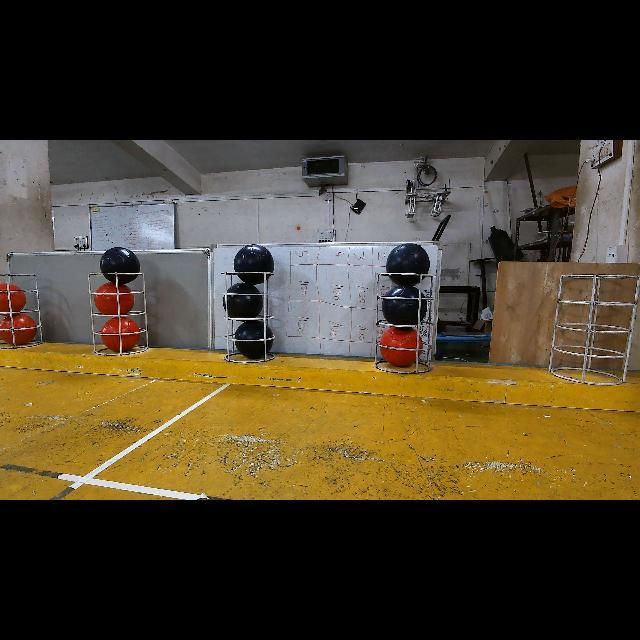P: (387, 242, 432, 286), (381, 284, 428, 325), (234, 244, 275, 285), (234, 320, 274, 360), (222, 282, 264, 319), (100, 248, 140, 285)
R: (380, 327, 419, 368), (102, 318, 142, 352), (95, 283, 135, 314), (0, 314, 36, 345), (0, 282, 26, 312)
S: (550, 268, 640, 389), (367, 268, 437, 377), (218, 268, 280, 368), (86, 272, 156, 360), (0, 272, 44, 347)
